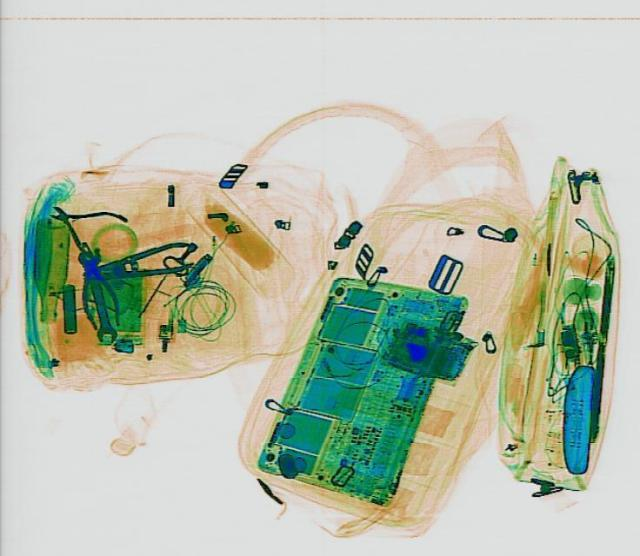Pliers: (30, 185, 134, 264), (76, 236, 198, 288), (65, 238, 122, 328)
Wrench: (72, 251, 118, 343)
